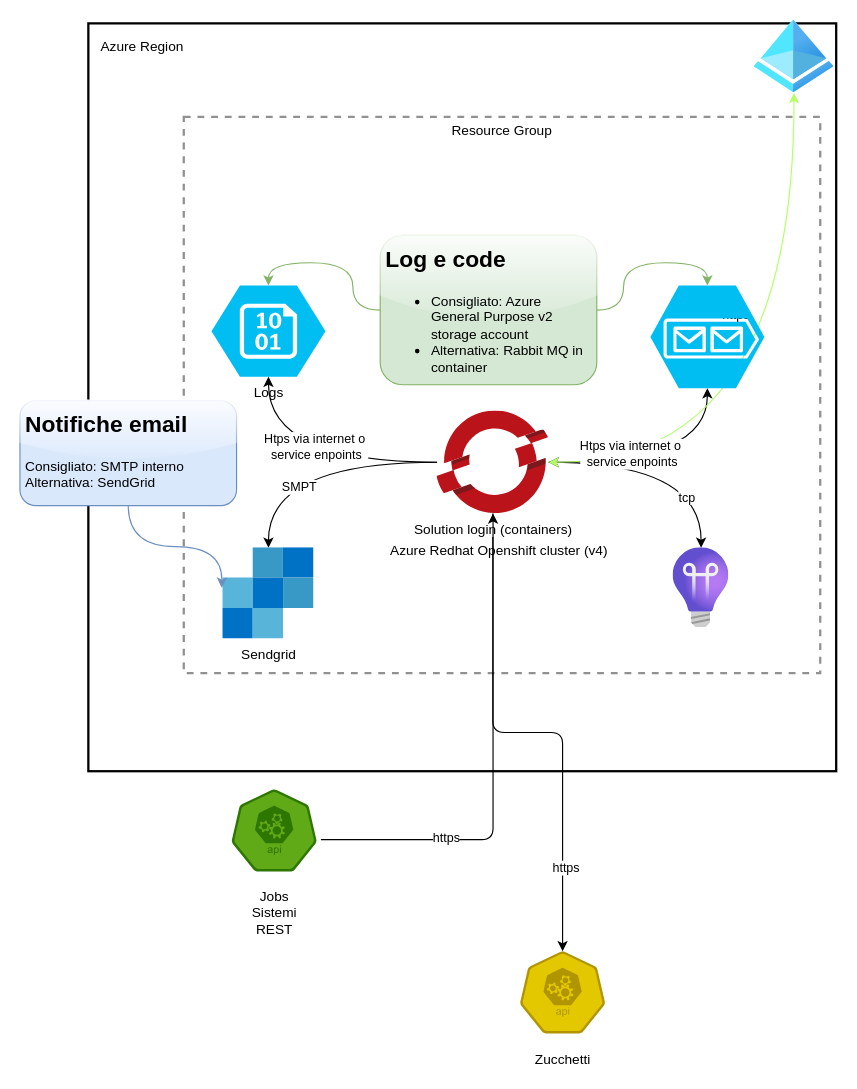
Some shapes in this 857 by 1089 pixel diagram are drawn without their labels. Each missing label, with the box of its shape:
Azure AD Tenant: (754, 19, 833, 92)
Log applicativi: (673, 547, 728, 627)
Message queue: (650, 285, 764, 388)
